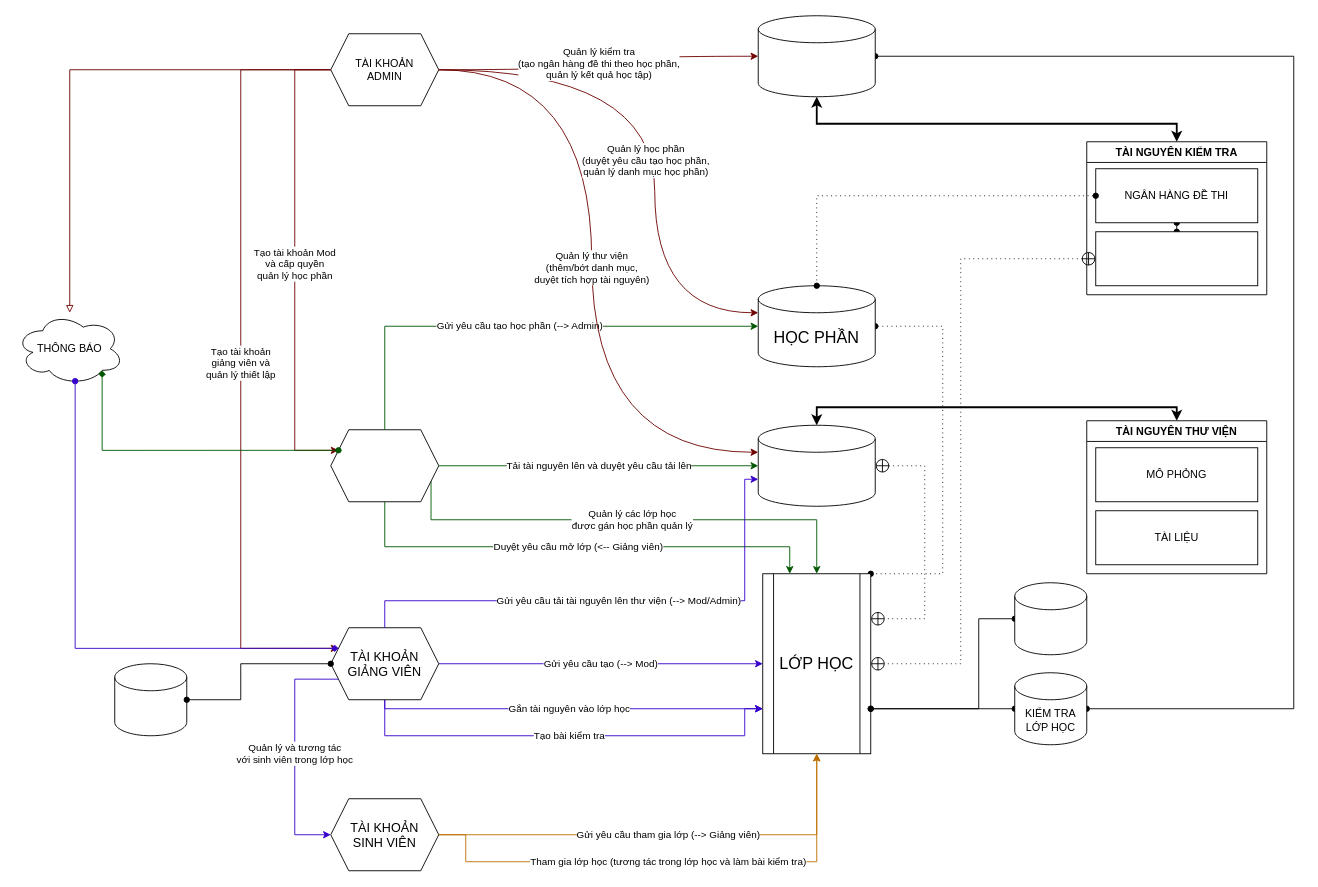
Image size: 1318x887. Some labels were removed from this diagram. Here are the shapes that lost their labels. From the top down, the centre of each, then its label:
At pixel 816 56: "KIỂM TRA".
At pixel 1176 258: "KẾT QUẢ KIỂM TRA".
At pixel 384 465: "TÀI KHOẢN MOD".
At pixel 816 465: "THƯ VIỆN".
At pixel 1050 618: "BUỔI HỌC".
At pixel 150 699: "THƯ VIỆN CÁ NHÂN".
